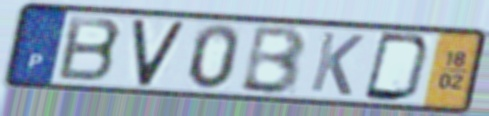0: (187, 21, 244, 92)
B: (236, 24, 310, 97), (55, 14, 125, 84)
D: (360, 30, 435, 104)
K: (307, 29, 367, 99)
V: (130, 18, 189, 89)
